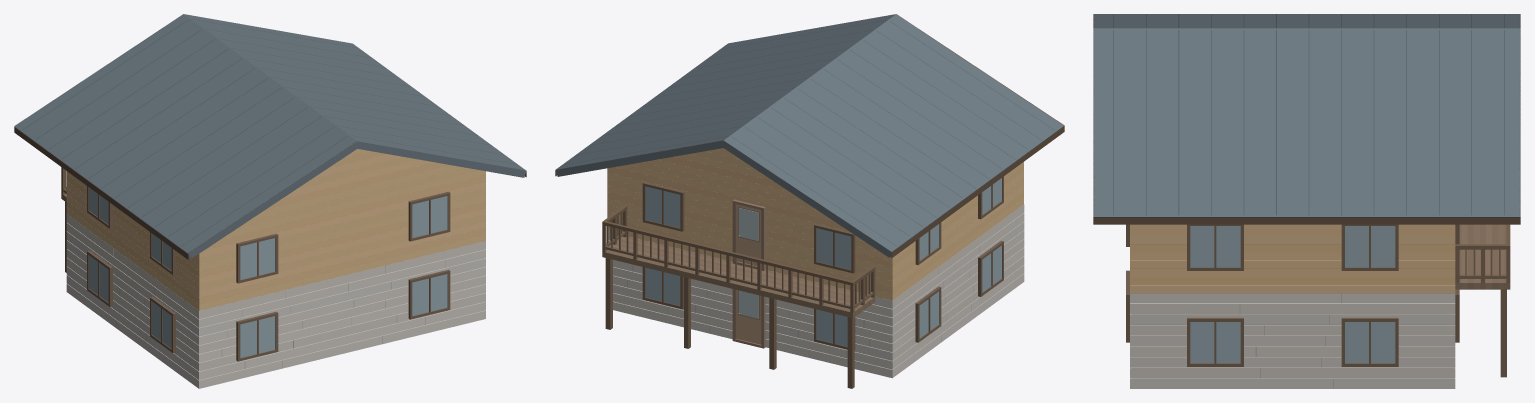
File: ski-chalet.glb
3 renders of one model, left to right at view 1: azimuth 30°, elevation 25°; view 2: azimuth 150°, elevation 25°; view 3: azimuth 270°, elevation 25°, orthographic. The views are drawn at different scales.
Visible parts, largest first — view 1: roof_left, roof_right, stone_storey_b0, stone_storey_b1, stone_storey_b7, stone_storey_b8, window_left_glass (×4), window_right_glass (×4), stone_storey_b6, timber_storey_back_01, timber_storey_back_02, stone_storey_b2 (+35 smaller); view 2: roof_left, roof_right, window_left_glass (×4), stone_storey_f0, stone_storey_f1, gallery_deck_01, window_right_glass (×3), timber_storey_front_10, stone_storey_f2, door_leaf (×2), timber_storey_front_03, timber_storey_front_11 (+44 smaller); view 3: roof_right, roof_left, window_right_glass (×4), window_left_glass (×4), stone_storey_r1, stone_storey_r0, stone_storey_r7, stone_storey_r8, roof_fascia_eave_right, stone_storey_r6, timber_storey_right_01, timber_storey_right_02 (+22 smaller).
Boxes of the visible parts, x1,y1,x2,y2 form: roof_left: [14, 14, 359, 259]; roof_right: [184, 14, 526, 177]; stone_storey_b0: [198, 310, 485, 388]; stone_storey_b1: [198, 301, 485, 380]; stone_storey_b7: [198, 249, 485, 327]; stone_storey_b8: [198, 241, 485, 319]; window_left_glass (×4): [240, 200, 428, 357]; window_right_glass (×4): [259, 196, 447, 353]; stone_storey_b6: [198, 258, 485, 336]; timber_storey_back_01: [199, 234, 485, 310]; timber_storey_back_02: [199, 228, 485, 304]; stone_storey_b2: [198, 293, 485, 371]; roof_left: [721, 14, 1063, 257]; roof_right: [555, 14, 895, 176]; window_left_glass (×4): [645, 186, 832, 342]; stone_storey_f0: [613, 301, 892, 378]; stone_storey_f1: [613, 293, 892, 369]; gallery_deck_01: [602, 250, 855, 317]; window_right_glass (×3): [664, 191, 851, 305]; timber_storey_front_10: [607, 167, 848, 230]; stone_storey_f2: [613, 284, 892, 360]; door_leaf (×2): [736, 204, 761, 344]; timber_storey_front_03: [607, 211, 892, 287]; timber_storey_front_11: [614, 164, 832, 220]; roof_right: [1093, 28, 1520, 217]; roof_left: [1093, 14, 1520, 28]; window_right_glass (×4): [1216, 226, 1395, 363]; window_left_glass (×4): [1190, 226, 1368, 363]; stone_storey_r1: [1131, 367, 1454, 378]; stone_storey_r0: [1131, 378, 1454, 388]; stone_storey_r7: [1131, 303, 1454, 313]; stone_storey_r8: [1131, 293, 1454, 303]; roof_fascia_eave_right: [1093, 217, 1520, 224]; stone_storey_r6: [1131, 314, 1454, 324]; timber_storey_right_01: [1130, 285, 1455, 292]; timber_storey_right_02: [1130, 277, 1455, 284].
Bounding box in the file's own units: 11.8 × 7.45 × 10.5.
